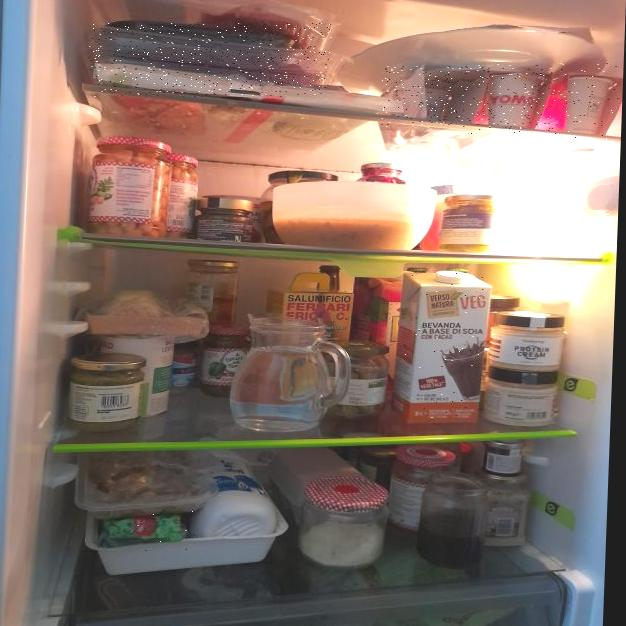cheese: (93, 511, 196, 552)
ham: (87, 23, 332, 71), (95, 52, 328, 97)
milk: (402, 273, 485, 424), (179, 443, 284, 541)
yoghurt: (380, 66, 488, 127), (470, 64, 555, 137), (550, 62, 620, 140)
